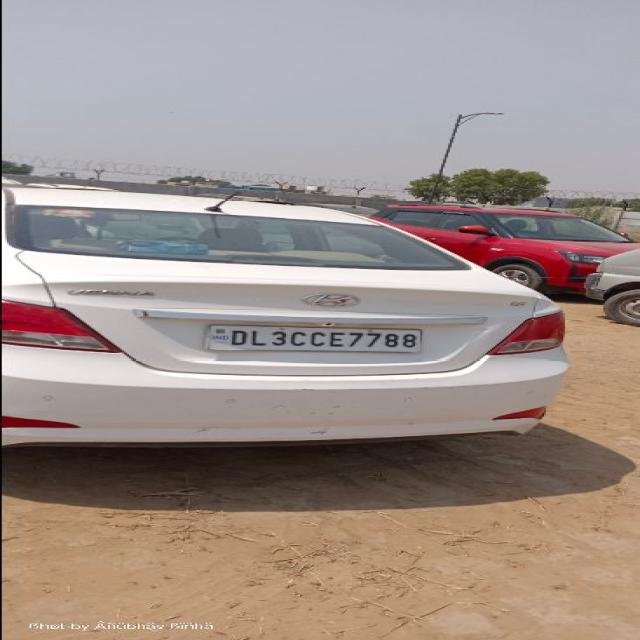license_plate: (202, 324, 422, 353)
